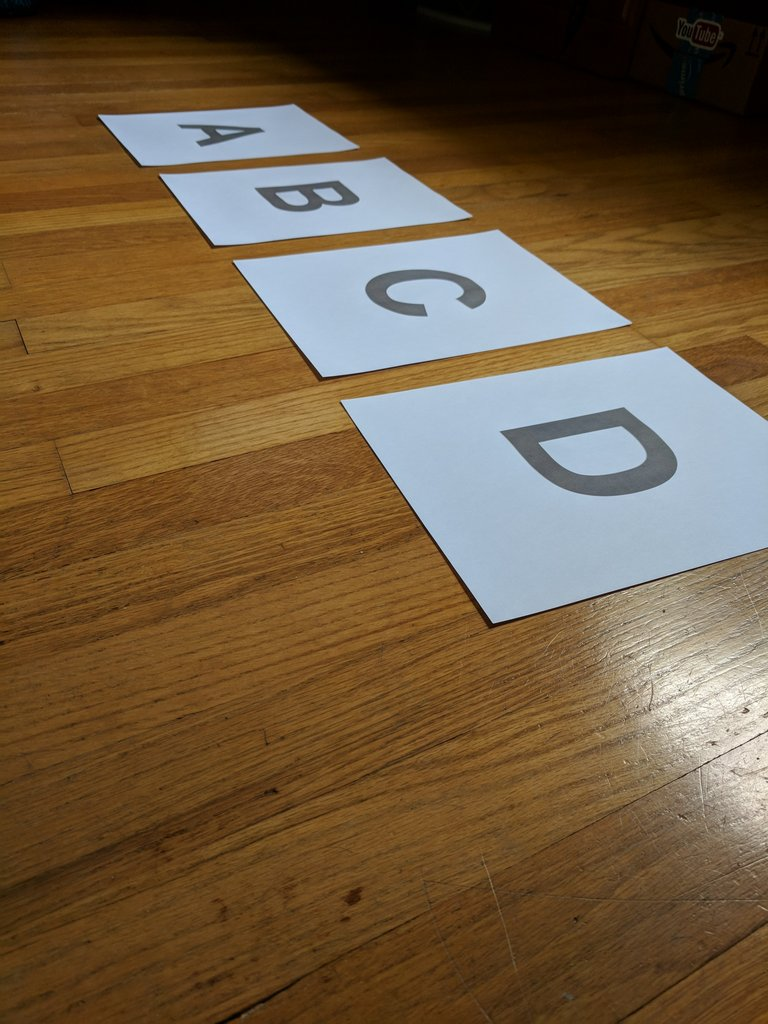home: (253, 181, 362, 215)
